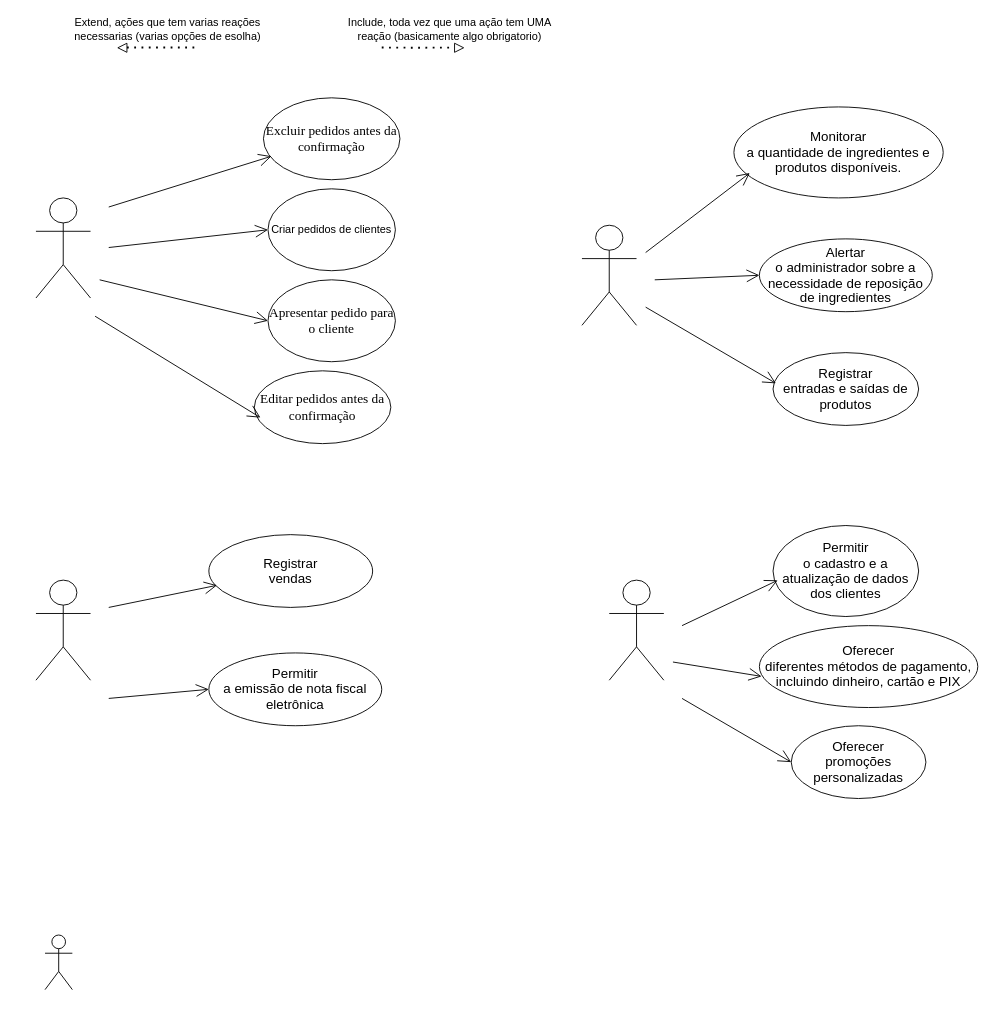
Some shapes in this 994 by 1024 pixel diagram are drawn without their labels. Here are the shapes that lost their labels. From the top down, the box of each, then its label:
(35, 197, 91, 298): Gestor dos pedidos
(581, 224, 637, 325): Gestor do estoque
(35, 579, 91, 680): Vendedor
(608, 579, 664, 680): Atendente/Caixa
(44, 934, 72, 990): Actor
